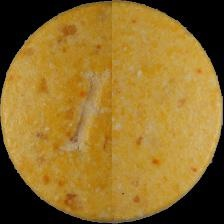10542-012: (0, 0, 224, 224)
